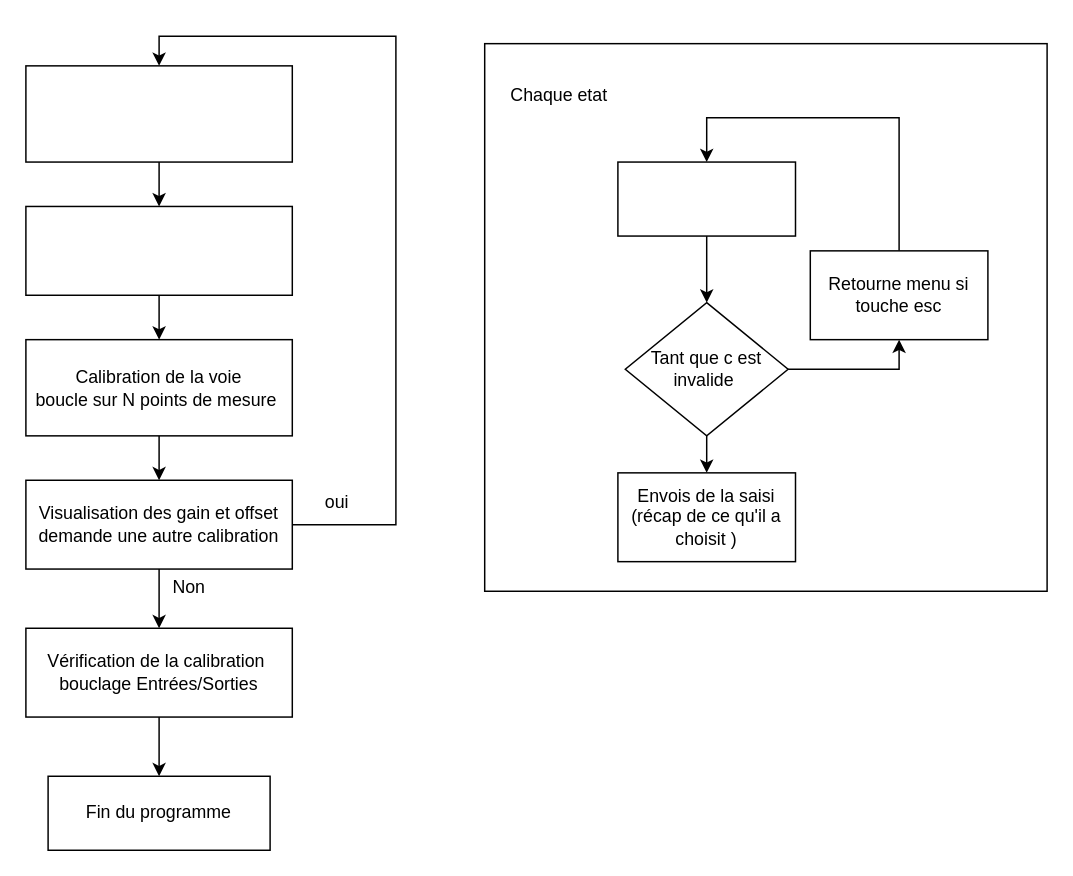
The diagram is 1073 pixels wide and 876 high, and some of its shapes have lost their labels. Here are the shapes that lost their labels. From the top down, the box of each, then its label:
(24, 64, 292, 162): Choix du type I or O et de la voie
(616, 161, 796, 236): Demande de réponse
(24, 205, 292, 295): Message de description du materiel (tension min max etc)
